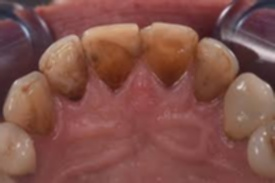Tooth Discoloration: (28, 41, 235, 138)
